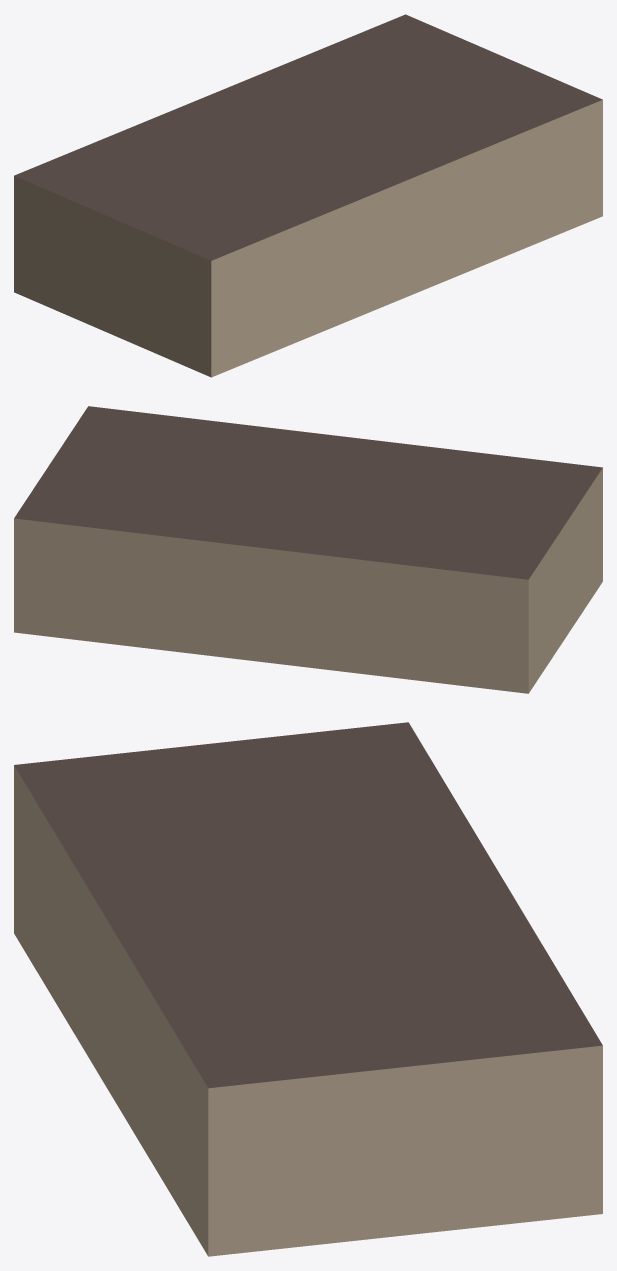
3 views of the same model, one above another, from view 1: azimuth 30°, elevation 25°; view 2: azimuth 150°, elevation 25°; view 3: azimuth 270°, elevation 25° (orthographic). The views are drawn at different scales.
Parts seen in each view (by area): view 1: HP-w859488813; view 2: HP-w859488813; view 3: HP-w859488813.
Boxes of the visible parts, x1,y1,x2,y2 form: HP-w859488813: [14, 14, 602, 377]; HP-w859488813: [14, 406, 602, 693]; HP-w859488813: [14, 722, 602, 1256].
Size of the model in its own units: 41.95 by 9 by 28.53.
